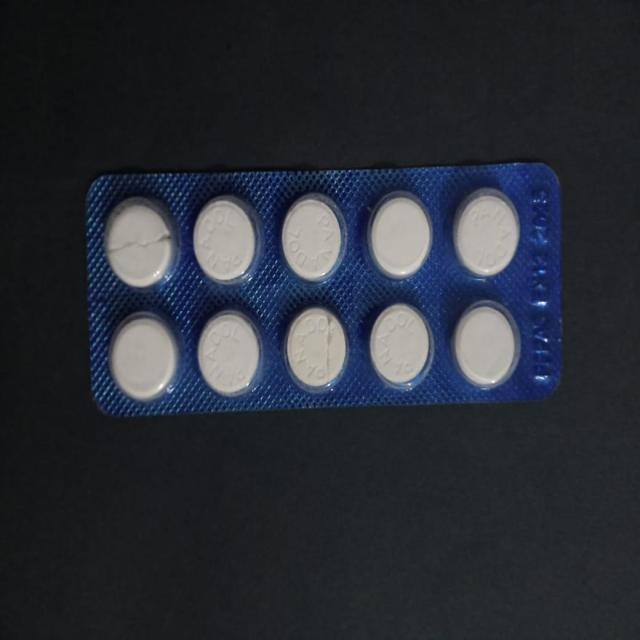defect: (102, 194, 182, 294), (284, 302, 349, 396)
